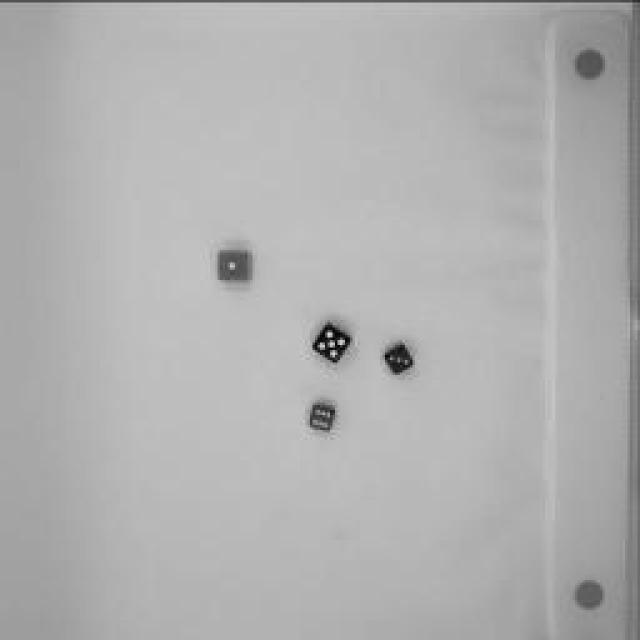dice_1: (209, 242, 261, 292)
dice_3: (380, 338, 420, 380)
dice_5: (305, 316, 357, 366)
dice_6: (305, 400, 340, 435)
